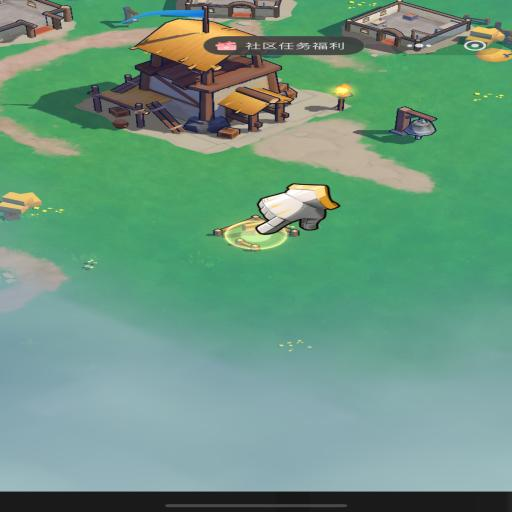newcomer_hand: (251, 183, 340, 233)
